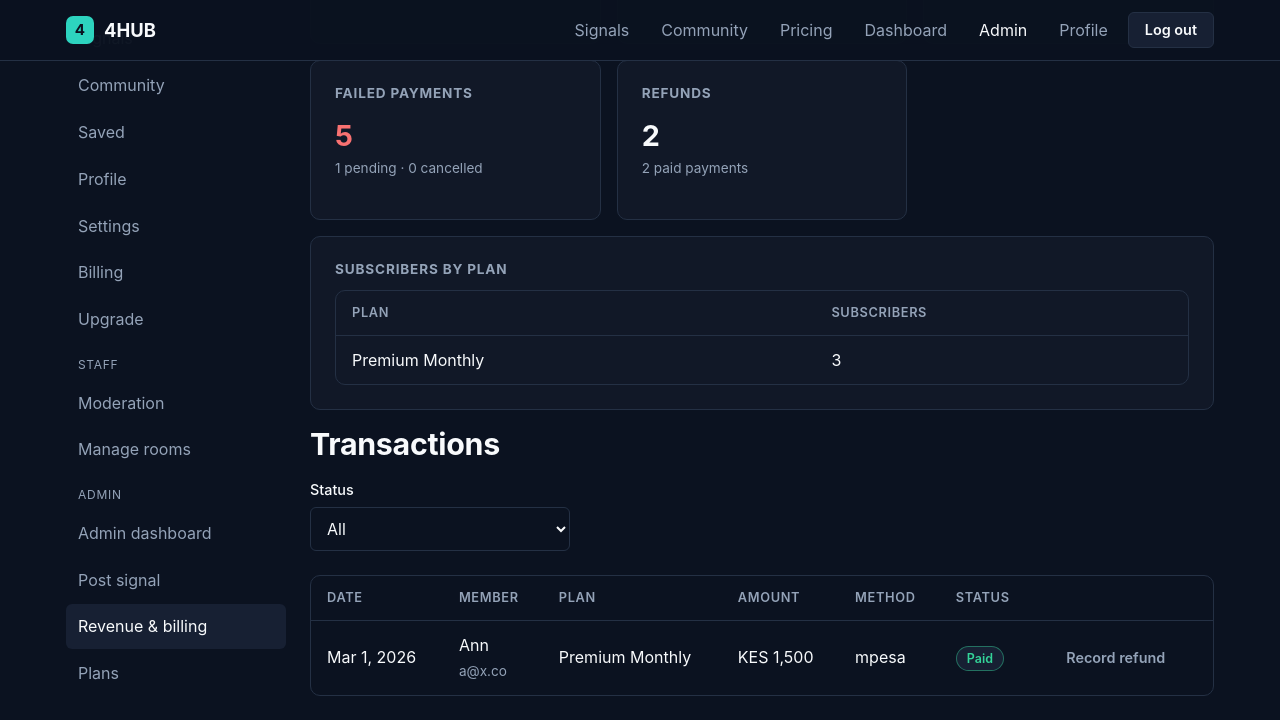
Scenario: admin billing › records a refund with a reason, converting the amount to minor units
The image size is (1280, 720).
(page scrolled)
Click the button "Record refund". click: (1116, 658)
box: [1049,640,1182,676]
(page scrolled)
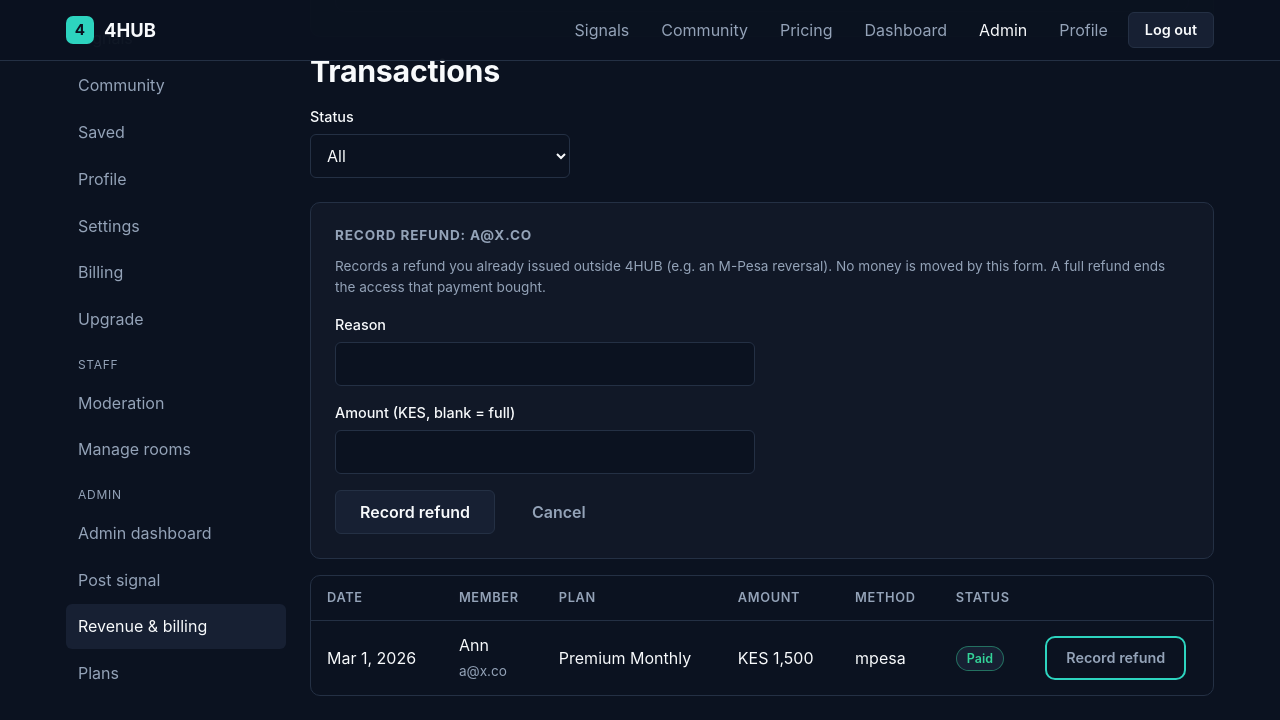
Type "customer request" into the field labelled "Reason". click: (545, 364)
box: [335,342,755,386]
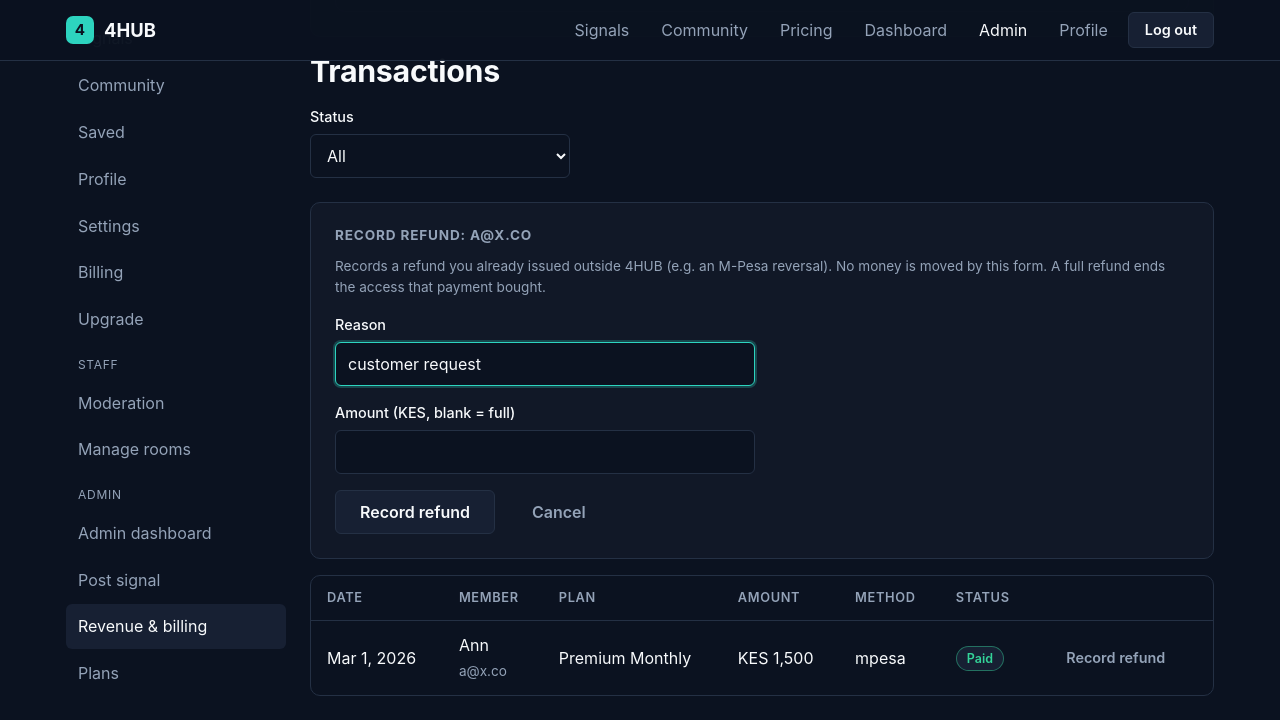
Type "500.50" into the field labelled "Amount (KES, blank = full)". click: (545, 452)
box: [335,430,755,474]
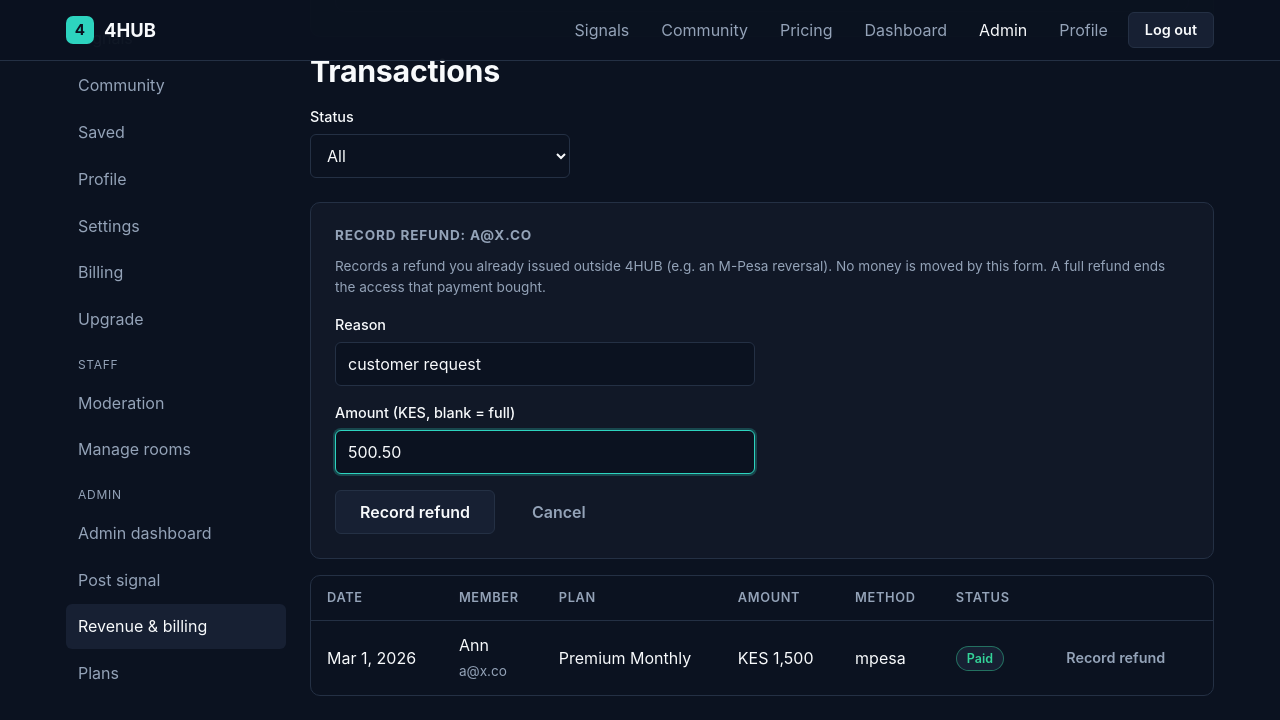
Click the button "Record refund" below "Amount (KES, blank = full)". click: (415, 512)
box: [335,490,495,534]
(page scrolled)
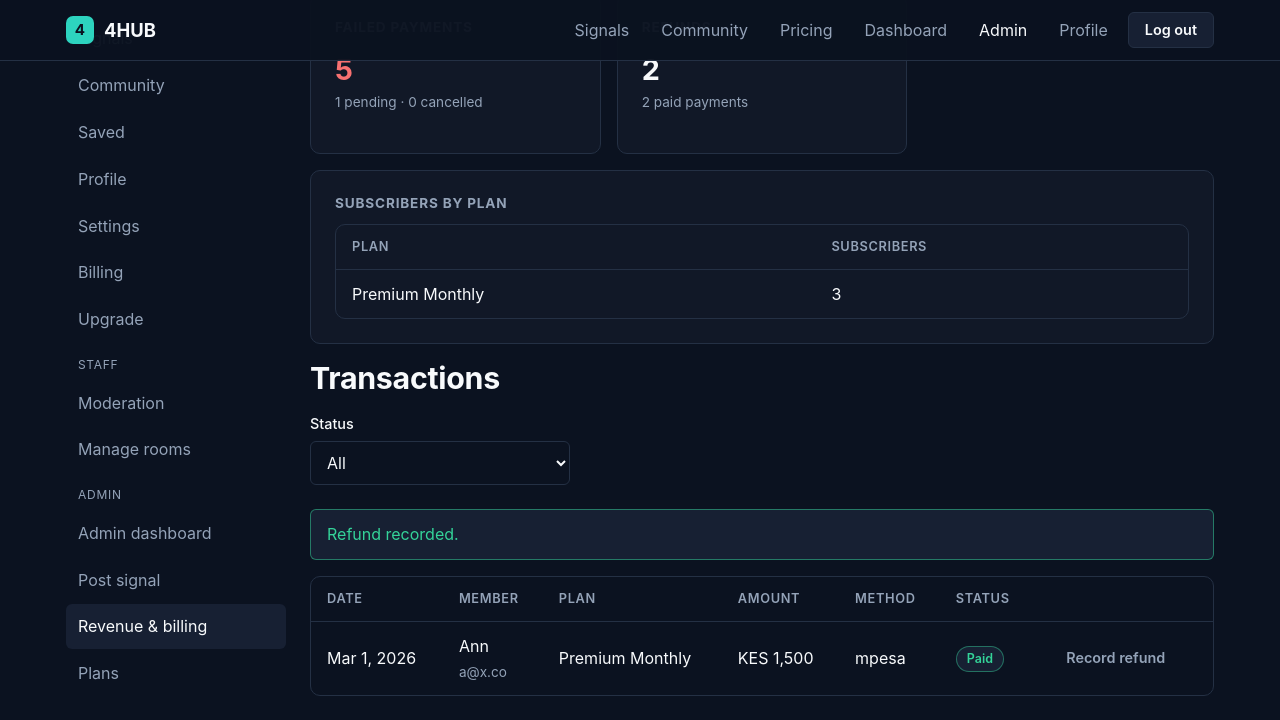
Now the text "Refund recorded." is shown, box [310,509,1214,560]
